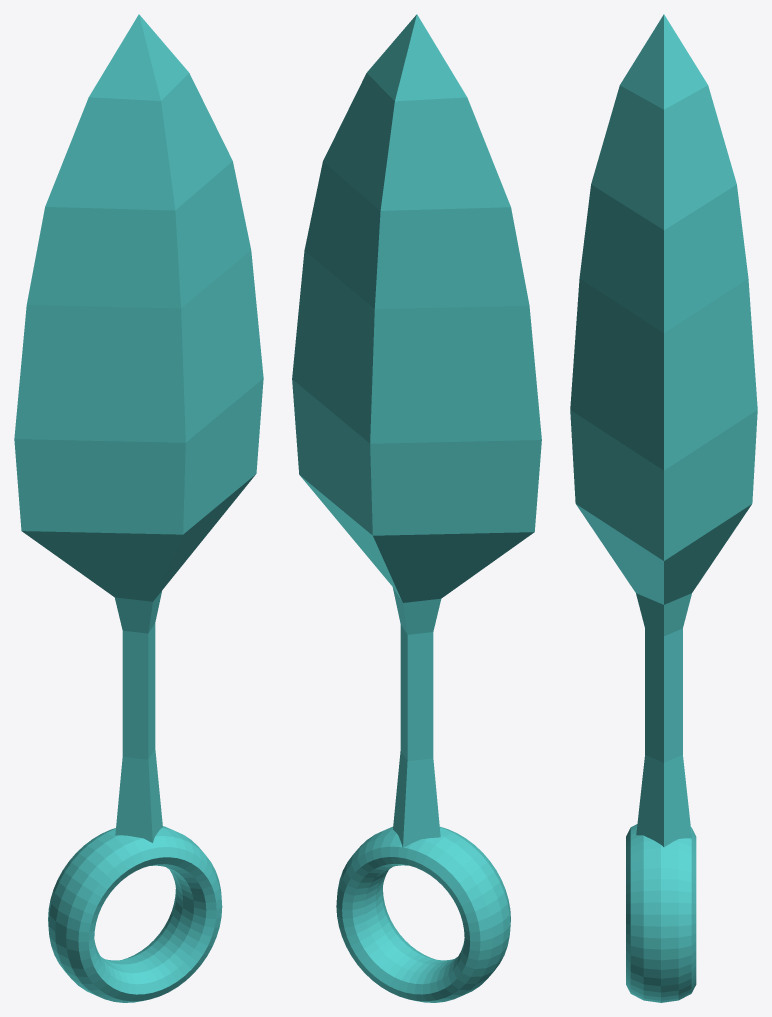
File: kunailCute.fbx
The picture shows the model from 3 angles, left to right: view 1: azimuth 30°, elevation 25°; view 2: azimuth 150°, elevation 25°; view 3: azimuth 270°, elevation 25°; orthographic projection.
Visible parts, largest first — view 1: Cube; view 2: Cube; view 3: Cube.
Boxes of the visible parts, left/top/right/bottom form: Cube: left=14, top=14, right=263, bottom=1002; Cube: left=292, top=14, right=541, bottom=1002; Cube: left=570, top=14, right=757, bottom=1002.
Size of the model in its own units: 0.9001 by 3.38 by 0.5848.
